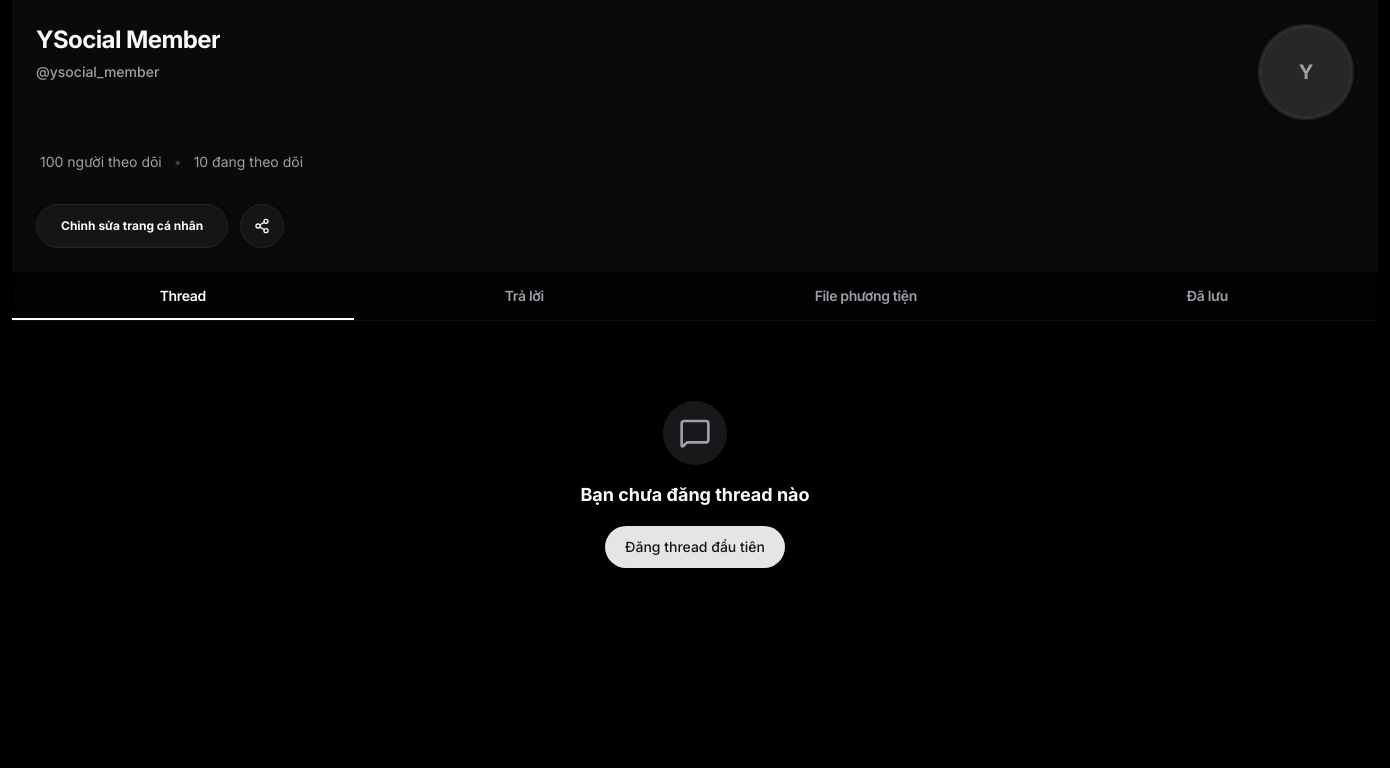
ProfileContainer identity › falls back to Threads and never loads Saved for a guest after logging out on the Saved tab
Click the tab "Đã lưu" at [1207, 296], box 1036,272 -> 1378,320
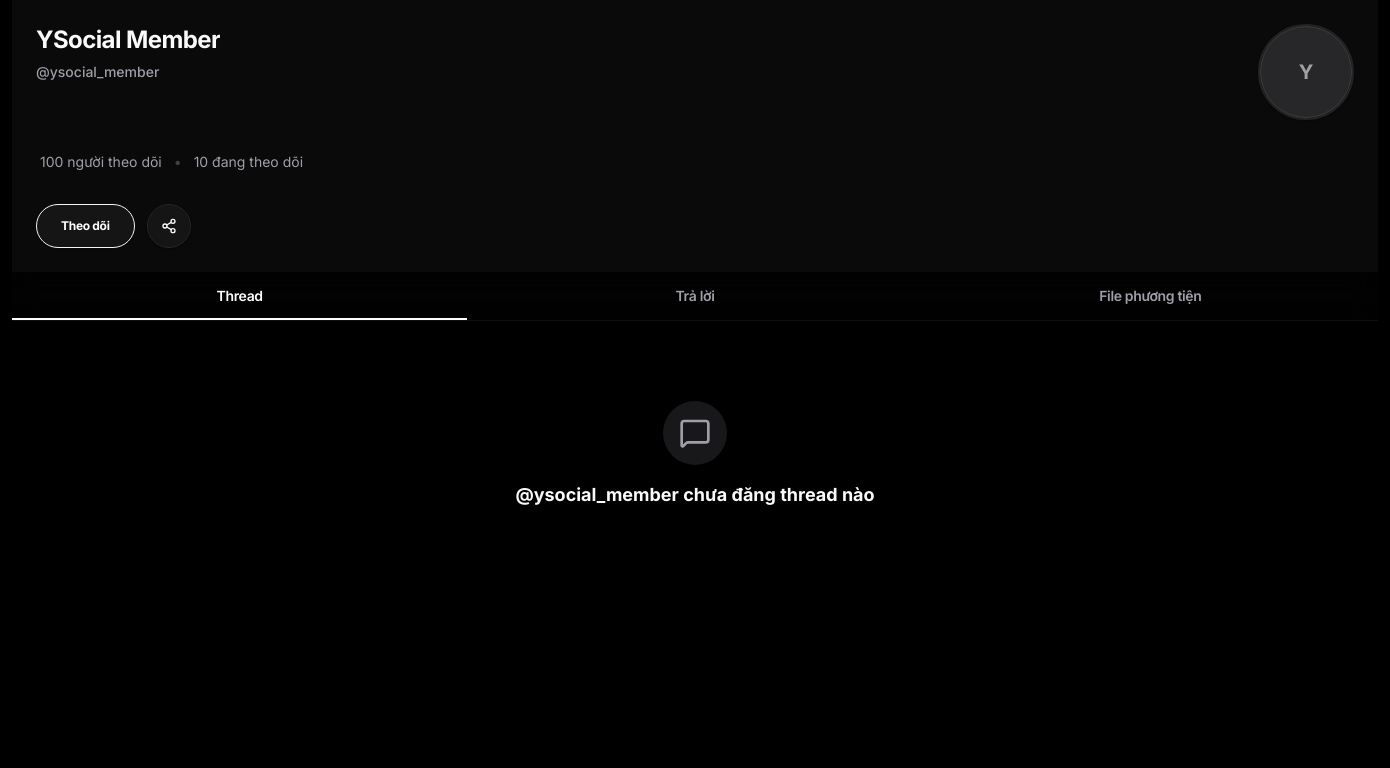
Result: the tab "Đã lưu" is gone
